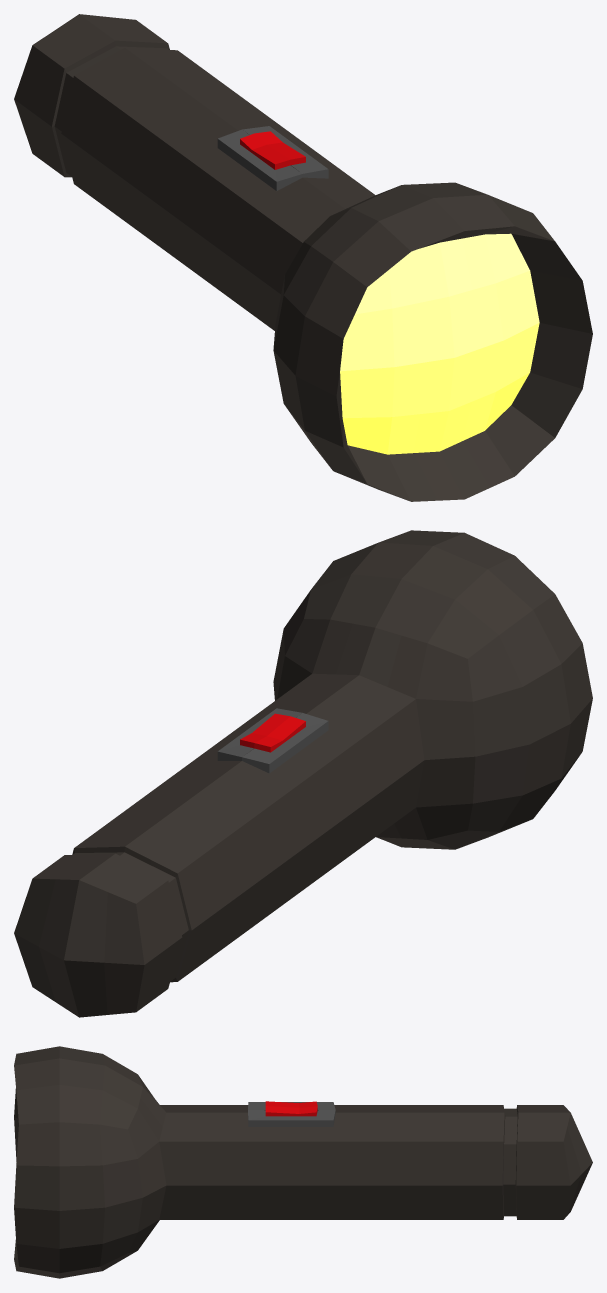
File: simple_flashlight.glb
The picture shows the model from 3 angles, top to bottom: view 1: azimuth 30°, elevation 25°; view 2: azimuth 150°, elevation 25°; view 3: azimuth 270°, elevation 25°; orthographic projection. The views are drawn at different scales.
Visible parts, largest first — view 1: Body, Lampe, Schalterbody, Schalter; view 2: Body, Schalterbody, Schalter; view 3: Body, Schalterbody, Schalter.
Part boxes in pixels (x1=…): Body: x1=14, y1=14, x2=592, y2=501; Lampe: x1=340, y1=233, x2=539, y2=454; Schalterbody: x1=217, y1=126, x2=328, y2=190; Schalter: x1=240, y1=131, x2=305, y2=169; Body: x1=14, y1=530, x2=592, y2=1017; Schalterbody: x1=217, y1=708, x2=328, y2=773; Schalter: x1=240, y1=713, x2=305, y2=752; Body: x1=14, y1=1046, x2=592, y2=1278; Schalterbody: x1=248, y1=1102, x2=335, y2=1126; Schalter: x1=265, y1=1101, x2=317, y2=1116.
Size of the model in its own units: 0.1289 by 0.1289 by 0.3251.
